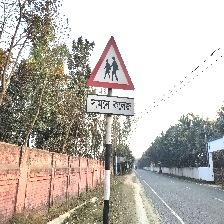College-in-front: (70, 29, 145, 122)
